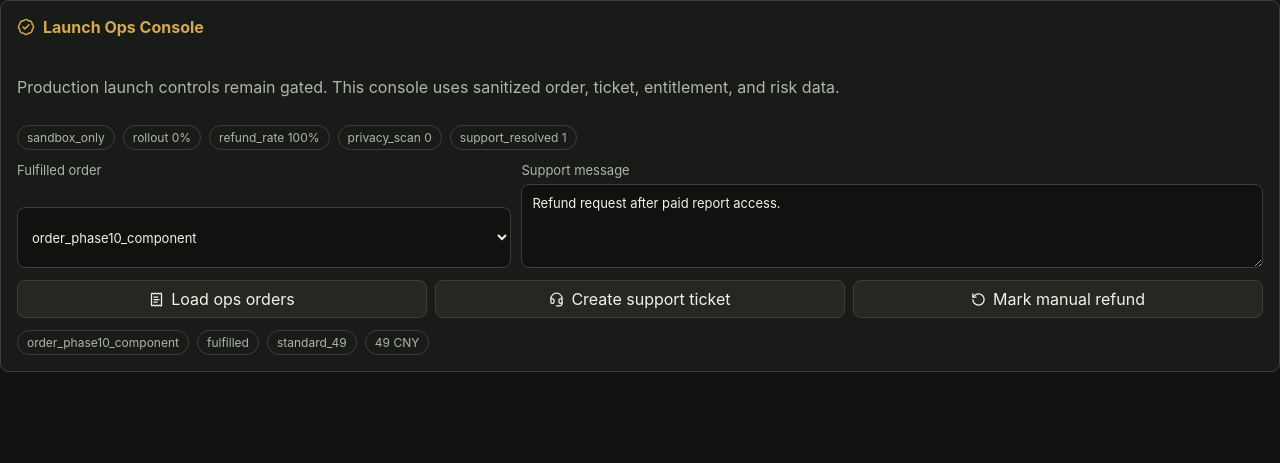
Test: phase 10 launch ops panel › loads ops orders, creates support ticket, marks manual refund, and refreshes dashboard
This screenshot has width=1280, height=463.
Replace the text in the text box labelled "Support message" with "Refund request for 2000-08-16 03:30 Shanghai" at (892, 226), box [521,184,1263,268]
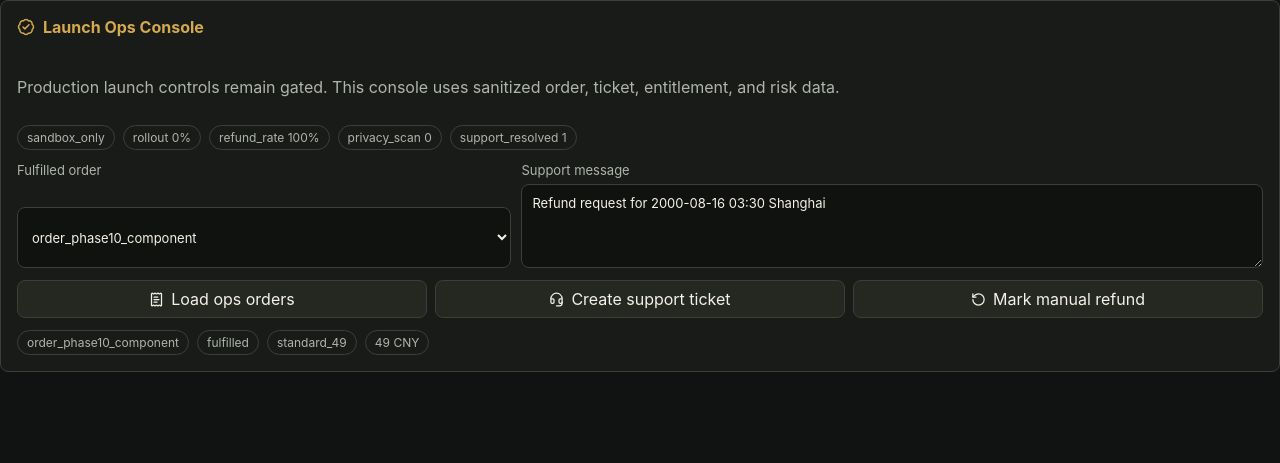
Click the button "Create support ticket" at (640, 299), box [435,280,845,318]
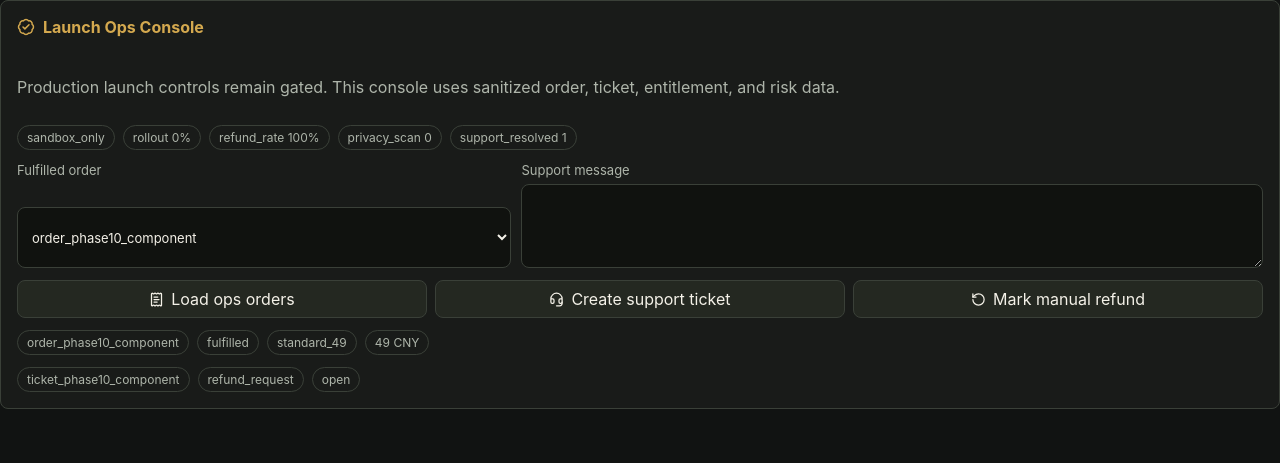
Now the text "ticket_phase10_component" is shown, box [17,367,190,392]
Click the button "Mark manual refund" at (1058, 299), box [853,280,1263,318]
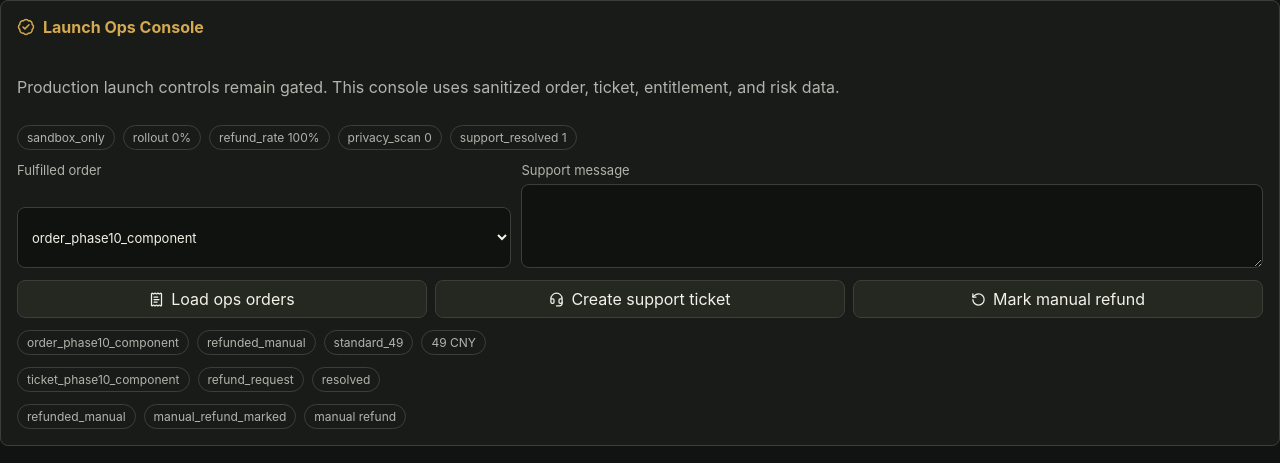
Expected: the text "refund_rate 100%" is shown, [209,125,330,150]
Now the text "resolved" is shown, box [312,367,380,392]
